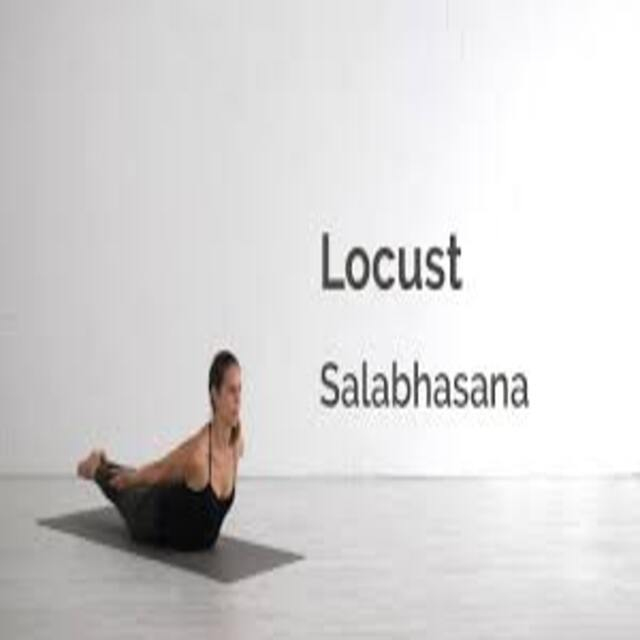Locust_Pose: (77, 350, 254, 553)
